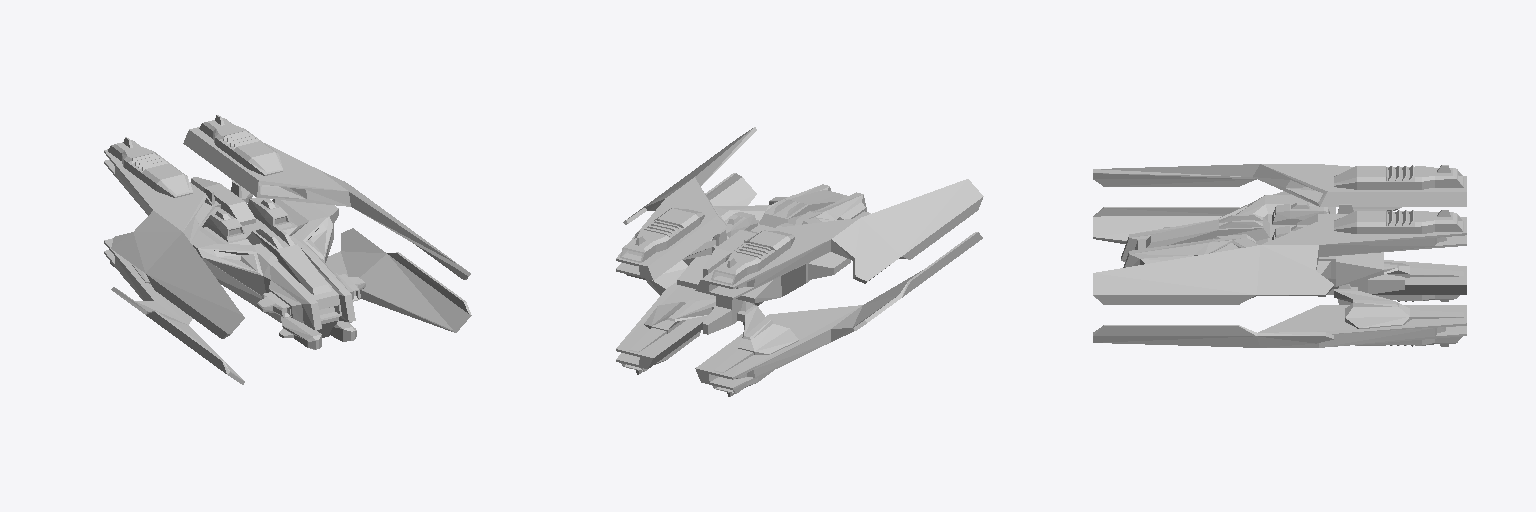
File: SpaceShip.obj
The picture shows the model from 3 angles: view 1: azimuth 30°, elevation 25°; view 2: azimuth 150°, elevation 25°; view 3: azimuth 270°, elevation 25°; orthographic projection.
Visible parts, largest first — view 1: SciFi_Fighter_MK6.001; view 2: SciFi_Fighter_MK6.001; view 3: SciFi_Fighter_MK6.001.
Boxes of the visible parts, x1=… form: SciFi_Fighter_MK6.001: x1=104, y1=115, x2=471, y2=384; SciFi_Fighter_MK6.001: x1=616, y1=127, x2=983, y2=396; SciFi_Fighter_MK6.001: x1=1093, y1=164, x2=1466, y2=347.
Size of the model in its own units: 9.73 by 5.2 by 12.93.